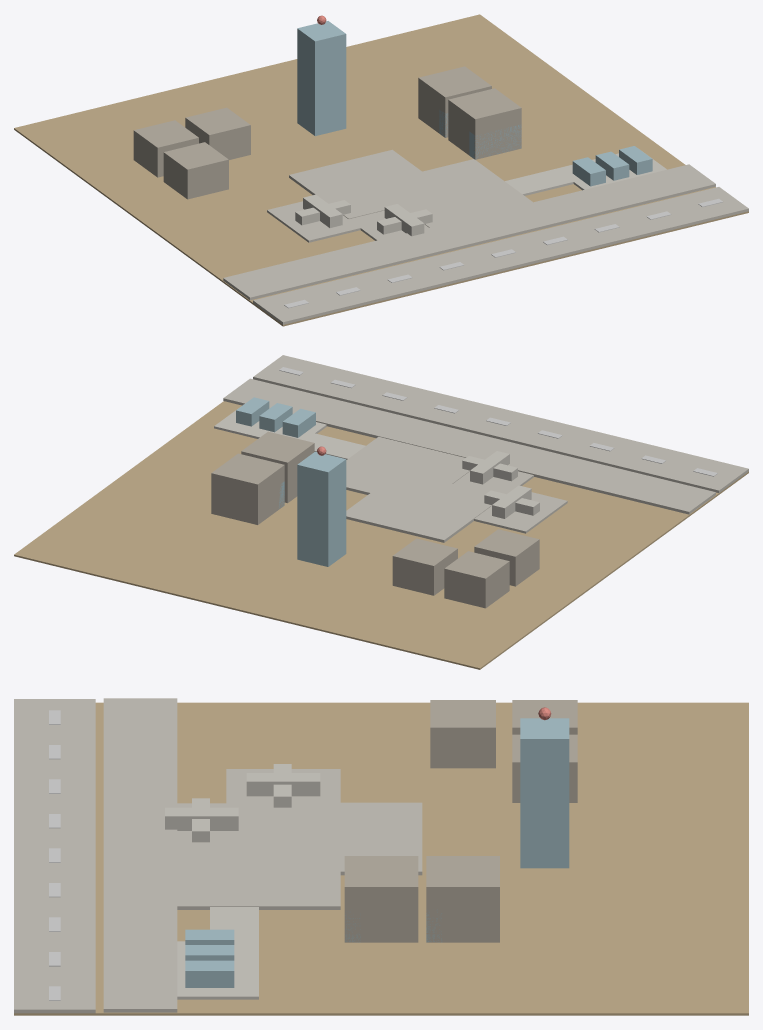
Rendered from stage_13.glb.
3 views of the same model, one above another, from view 1: azimuth 30°, elevation 25°; view 2: azimuth 150°, elevation 25°; view 3: azimuth 270°, elevation 25° (orthographic). The views are drawn at different scales.
Visible parts, largest first — view 1: geometry_0; view 2: geometry_0; view 3: geometry_0.
Boxes of the visible parts, x1,y1,x2,y2 form: geometry_0: (14, 14, 748, 326); geometry_0: (14, 355, 748, 669); geometry_0: (14, 698, 748, 1015).
Size of the model in its own units: 9 by 2.06 by 9.
